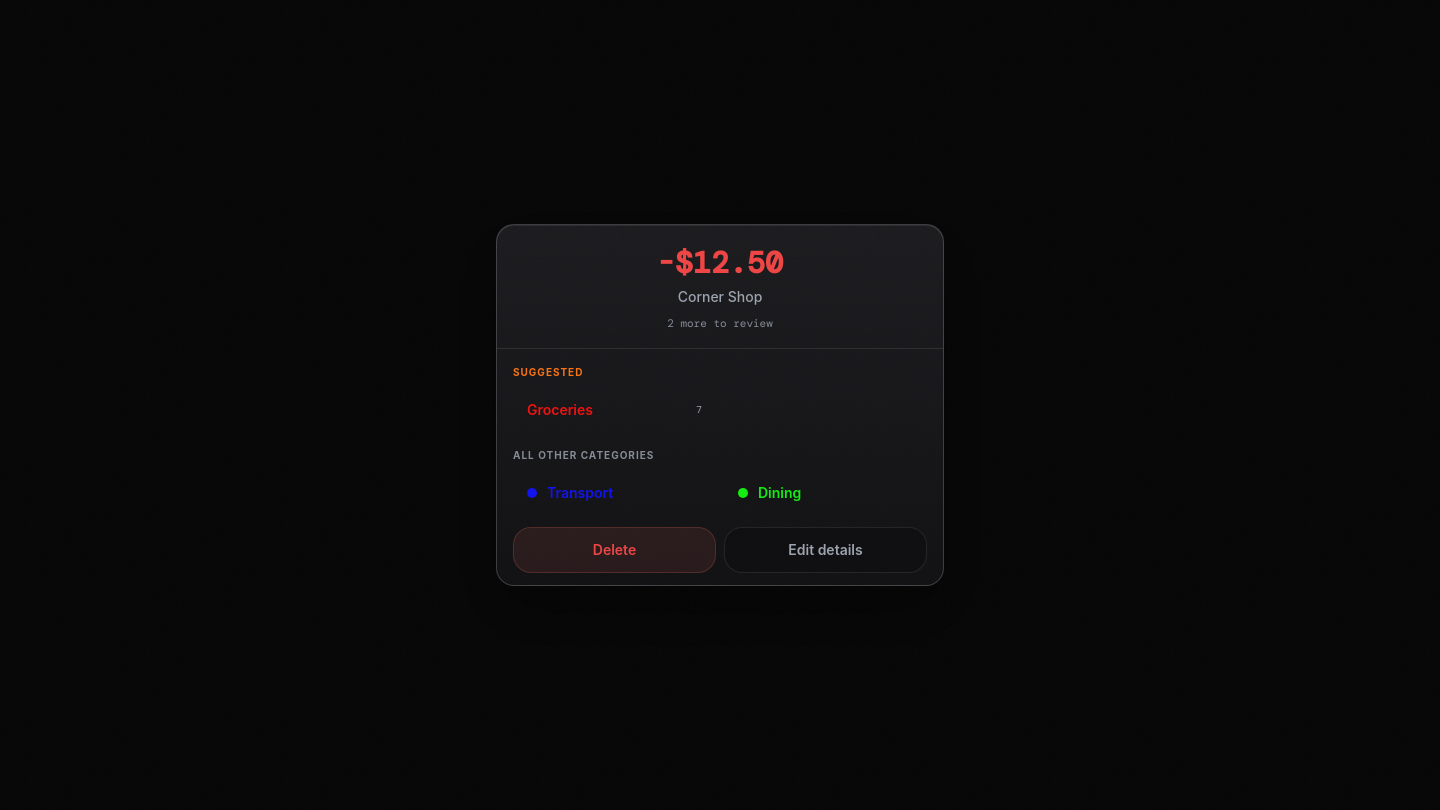
Test: final item › reports the number filed across a whole session
The width and height of the screenshot is (1440, 810).
Click the button "Groceries 7". click: (614, 410)
box: [513,388,716,432]
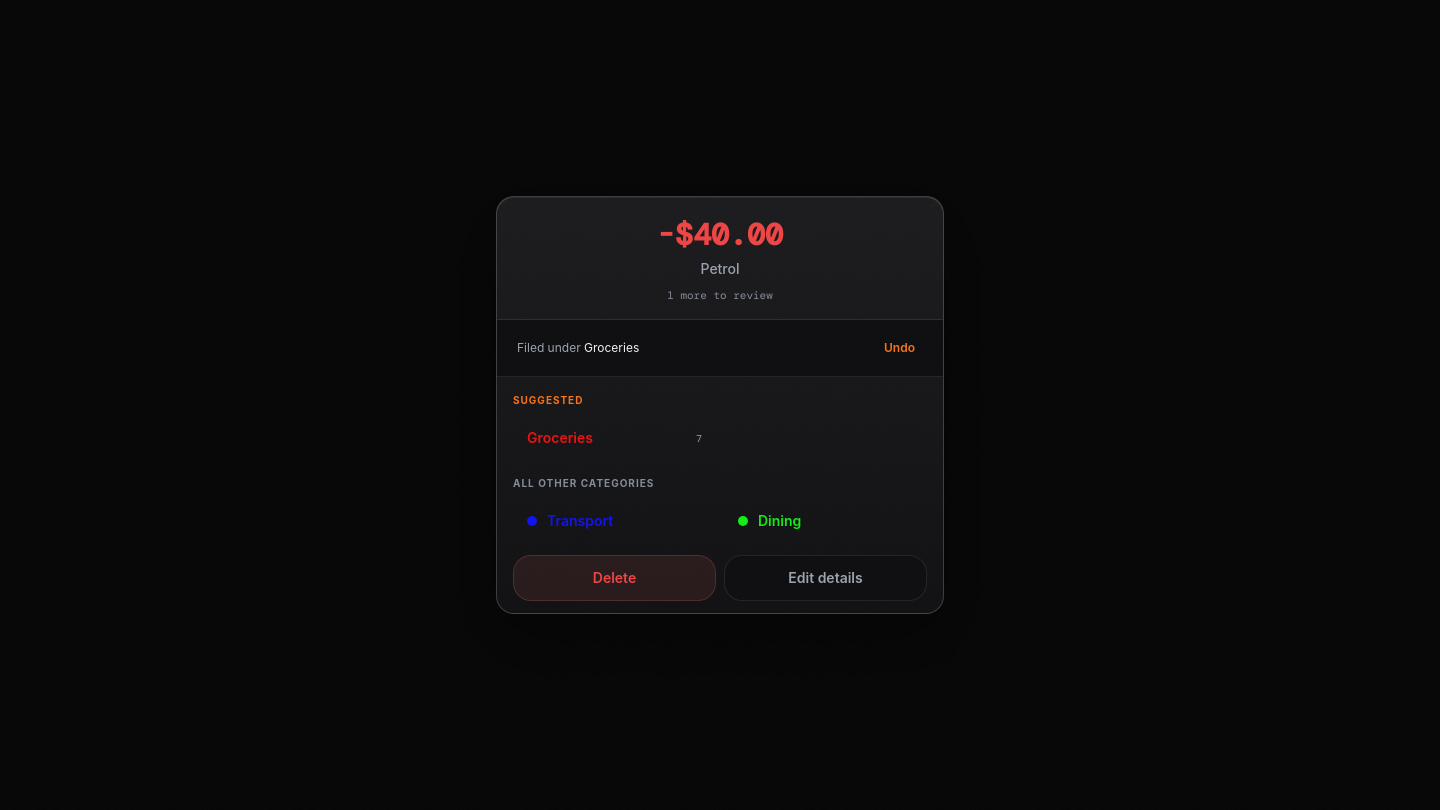
Now the text "Petrol" is shown, box [700,260,740,277]
Click the button "Transport". click: (614, 521)
box: [513,499,716,543]
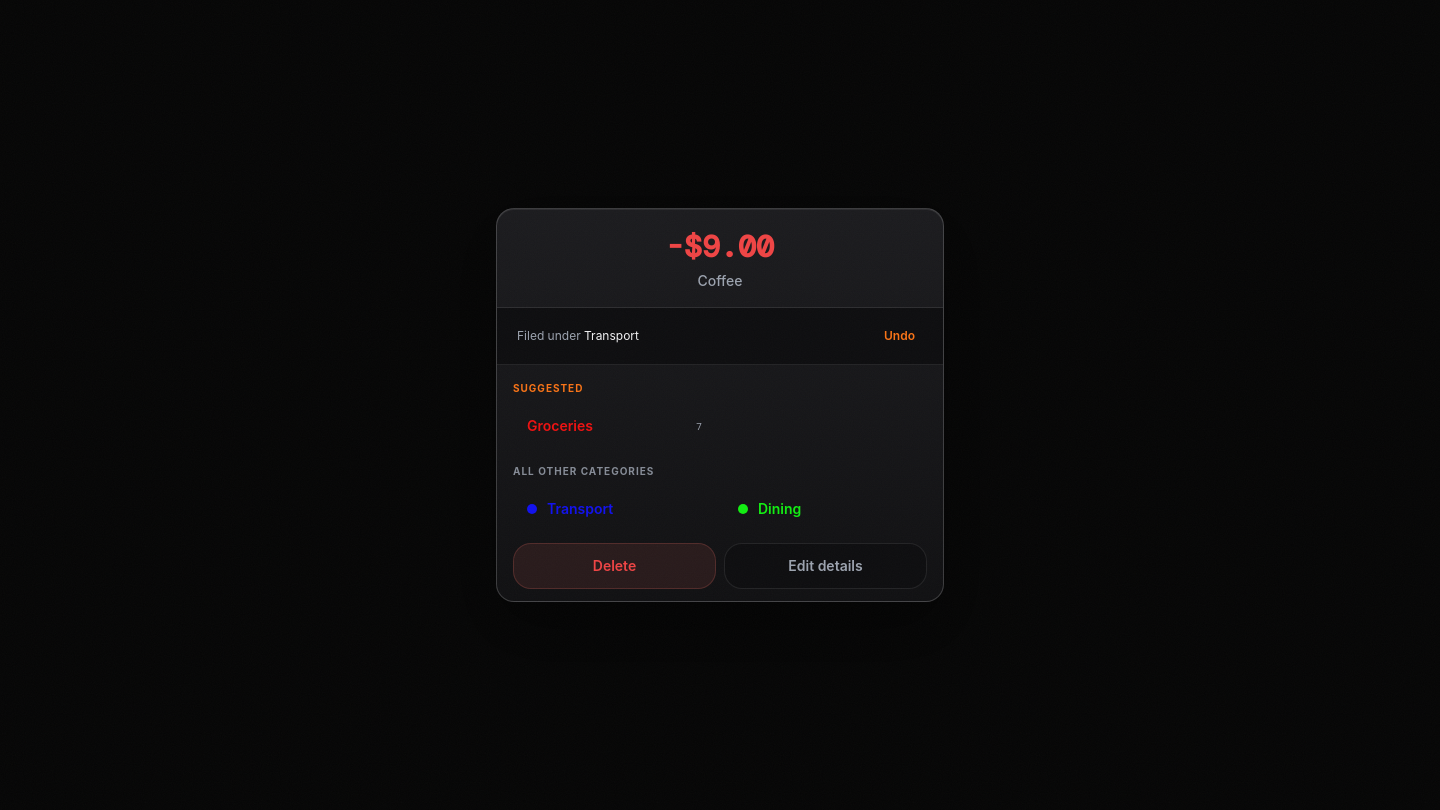
Now the text "Coffee" is shown, box [698,272,742,289]
Click the button "Dining". click: (826, 509)
box: [724,487,927,531]
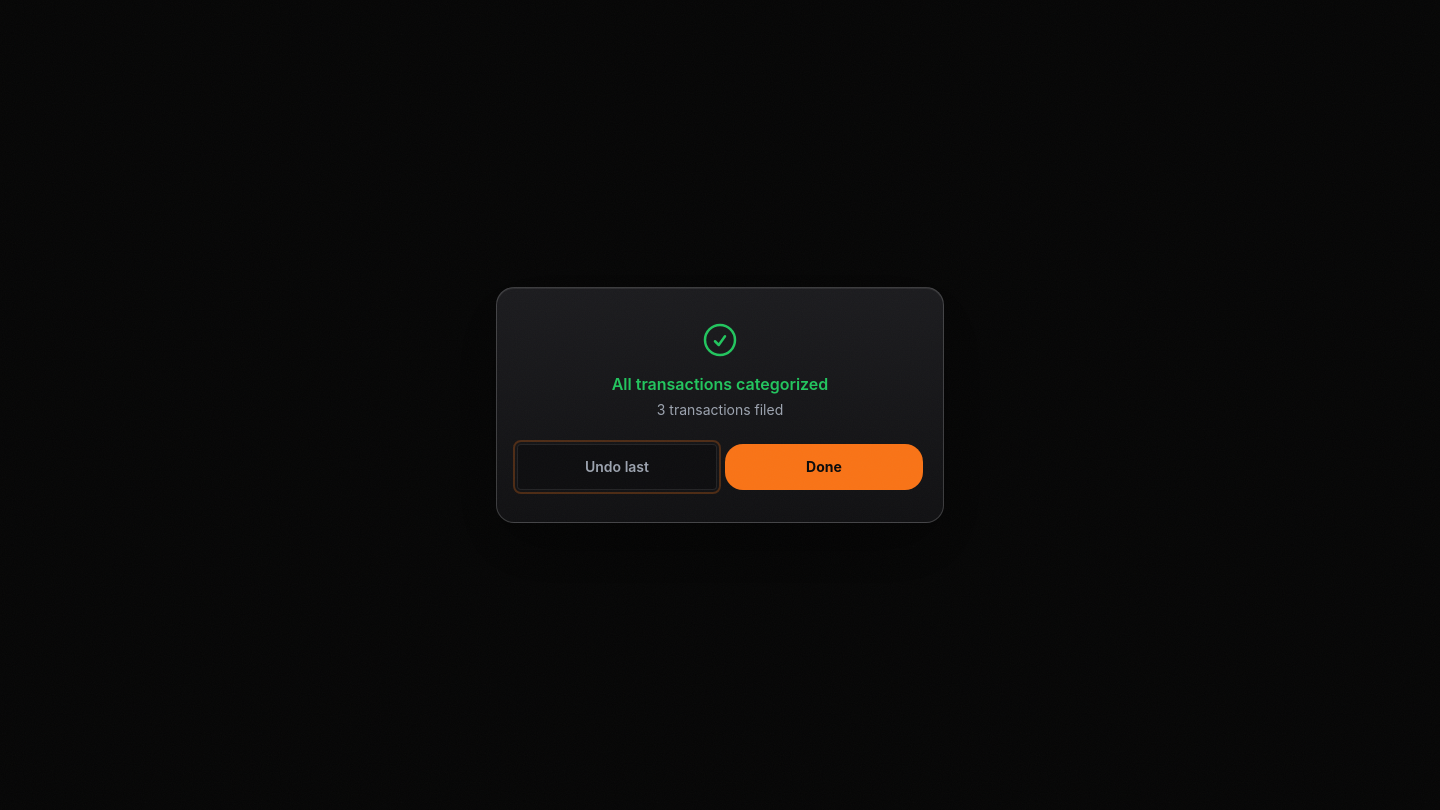
Now the text "3 transactions filed" is shown, box [657,401,783,418]
